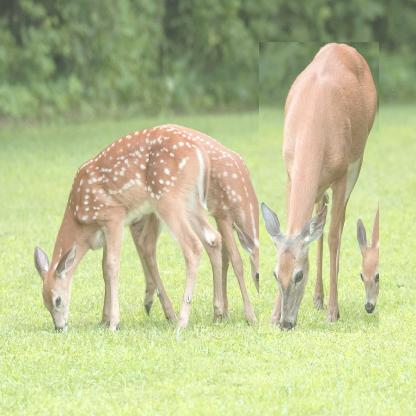Deer: (31, 124, 228, 340), (258, 42, 378, 333), (134, 126, 282, 325)
